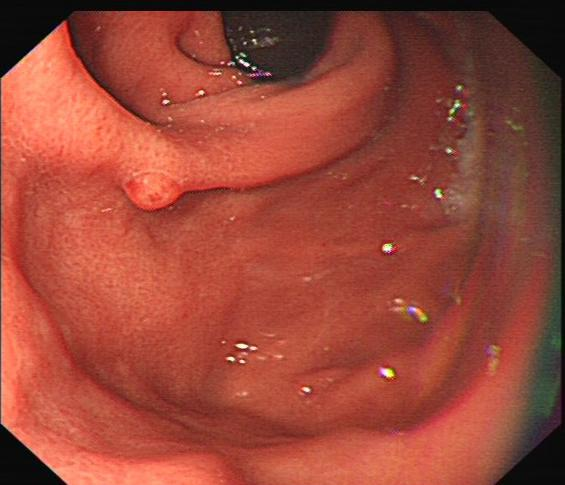Polyp: (107, 153, 197, 221)
